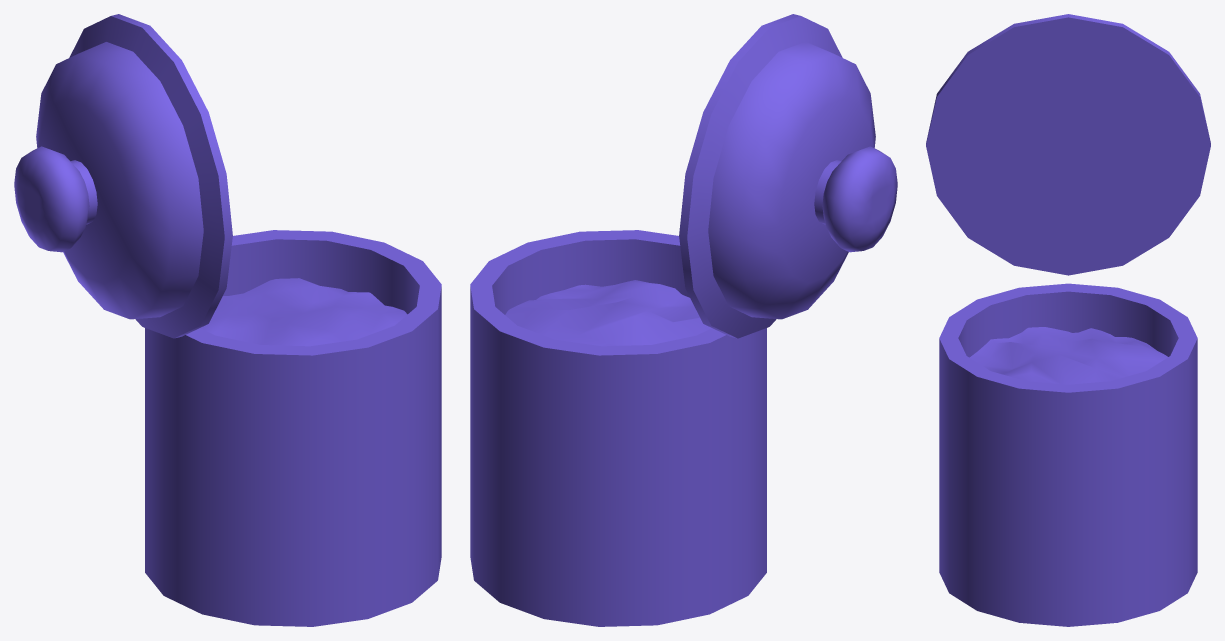
File: Food_BarleyContainer.fbx
3 views of the same model, side by side, from view 1: azimuth 30°, elevation 25°; view 2: azimuth 150°, elevation 25°; view 3: azimuth 270°, elevation 25° (orthographic). The views are drawn at different scales.
Visible parts, largest first — view 1: BraleyCBod; view 2: BraleyCBod; view 3: BraleyCBod.
Boxes of the visible parts, x1=… form: BraleyCBod: x1=14, y1=14, x2=441, y2=626; BraleyCBod: x1=470, y1=14, x2=897, y2=626; BraleyCBod: x1=926, y1=14, x2=1210, y2=626.
Size of the model in its own units: 14.04 by 19.69 by 10.27.
